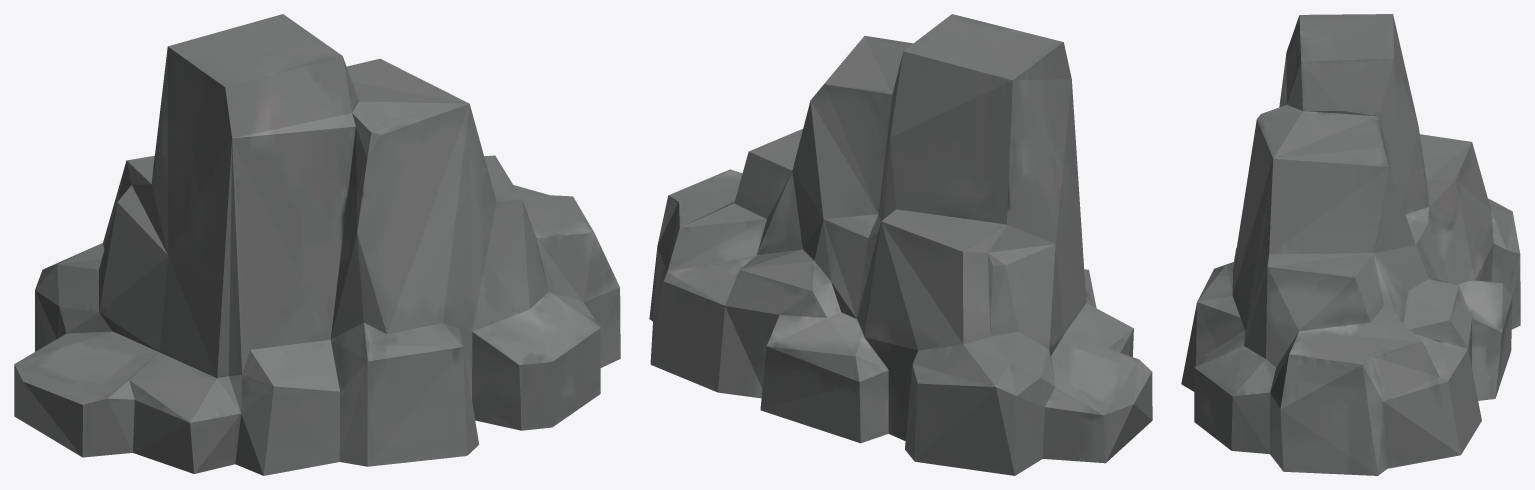
Rendered from rock_t01.glb.
The picture shows the model from 3 angles, left to right: view 1: azimuth 30°, elevation 25°; view 2: azimuth 150°, elevation 25°; view 3: azimuth 270°, elevation 25°; orthographic projection. The views are drawn at different scales.
Parts seen in each view (by area): view 1: Rock_1__Rock_1__0; view 2: Rock_1__Rock_1__0; view 3: Rock_1__Rock_1__0.
Boxes of the visible parts, x1,y1,x2,y2 form: Rock_1__Rock_1__0: [14, 14, 620, 475]; Rock_1__Rock_1__0: [649, 14, 1152, 475]; Rock_1__Rock_1__0: [1181, 14, 1520, 475].
Size of the model in its own units: 6.38 by 4.13 by 4.2.
1 material, 1 textured.
